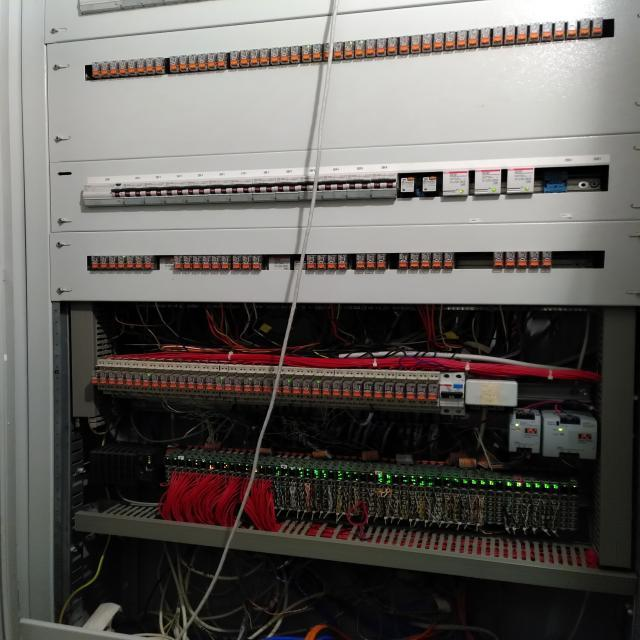Dimmer: (507, 168, 534, 194), (442, 170, 467, 196), (476, 170, 501, 194), (267, 256, 290, 270), (159, 256, 174, 270)
FI_Sicherungskombi: (440, 372, 465, 415)
Leitungsschutzschalter: (83, 176, 124, 207), (371, 165, 398, 198), (298, 166, 324, 200), (324, 166, 348, 200), (187, 171, 210, 205), (208, 172, 232, 204), (275, 169, 299, 201), (253, 169, 276, 202), (123, 175, 148, 205), (349, 166, 372, 198), (166, 173, 188, 206), (231, 170, 253, 202), (146, 174, 167, 204), (419, 172, 441, 196), (398, 173, 418, 198)
Relais: (578, 18, 592, 39), (565, 18, 579, 39), (592, 16, 605, 38), (553, 20, 566, 41), (540, 21, 553, 42), (515, 23, 528, 44), (529, 22, 541, 43), (504, 24, 516, 45), (375, 37, 387, 57), (398, 35, 410, 55), (444, 30, 456, 50), (409, 35, 421, 54), (456, 30, 468, 49), (312, 43, 323, 63), (387, 36, 398, 56), (468, 28, 479, 48), (290, 46, 301, 65), (259, 48, 270, 67), (301, 44, 312, 63), (354, 39, 365, 58), (422, 34, 433, 53), (365, 39, 376, 58), (480, 28, 491, 47), (492, 27, 503, 46), (187, 54, 199, 71), (333, 40, 343, 60), (344, 40, 354, 60), (240, 50, 251, 68), (259, 49, 270, 67), (504, 252, 516, 268), (443, 253, 455, 269), (280, 46, 290, 65), (433, 33, 443, 52), (270, 47, 280, 66), (172, 253, 183, 270), (420, 252, 431, 269), (145, 58, 156, 75), (169, 56, 180, 73), (135, 59, 146, 76), (541, 252, 552, 268), (493, 252, 504, 268), (529, 252, 540, 268), (262, 378, 273, 394), (250, 48, 259, 67), (118, 59, 128, 76), (198, 54, 208, 71), (217, 52, 227, 69), (395, 383, 405, 400), (363, 381, 373, 398), (98, 255, 109, 270), (516, 252, 527, 267), (125, 255, 135, 271), (410, 253, 420, 269), (215, 377, 225, 393), (243, 377, 253, 393), (405, 384, 415, 400), (416, 384, 426, 400), (321, 380, 331, 396), (282, 378, 292, 394), (291, 379, 301, 395), (332, 381, 342, 397), (428, 384, 438, 400), (179, 55, 188, 72), (231, 51, 240, 68), (100, 61, 109, 78), (240, 51, 249, 68), (342, 381, 351, 398), (353, 381, 362, 398), (374, 382, 383, 399), (385, 382, 394, 399), (220, 255, 230, 270), (91, 62, 101, 77), (233, 378, 243, 393), (301, 380, 311, 395), (107, 255, 116, 271), (202, 254, 211, 270), (134, 256, 144, 270), (124, 372, 134, 386), (141, 373, 151, 387), (143, 255, 152, 270), (160, 373, 169, 388), (196, 376, 205, 391), (224, 377, 233, 392), (253, 378, 262, 393), (273, 379, 282, 394), (312, 380, 321, 395), (208, 54, 217, 69), (307, 254, 316, 269), (366, 254, 375, 269), (377, 254, 386, 269), (399, 253, 408, 268), (108, 372, 118, 385), (156, 58, 164, 74), (129, 59, 137, 75), (433, 253, 441, 269), (187, 375, 196, 389), (206, 377, 215, 391), (252, 256, 261, 270), (317, 256, 326, 270), (356, 255, 365, 269), (110, 61, 118, 76), (183, 255, 191, 270), (242, 255, 250, 270), (90, 371, 99, 384), (328, 254, 335, 270), (339, 255, 347, 269), (324, 42, 330, 60), (117, 255, 124, 270), (212, 255, 219, 270), (193, 255, 200, 270), (233, 255, 240, 270), (178, 376, 186, 389), (170, 375, 177, 389), (135, 373, 142, 387), (91, 256, 99, 268), (152, 374, 159, 387), (117, 372, 124, 384), (100, 371, 107, 383)
